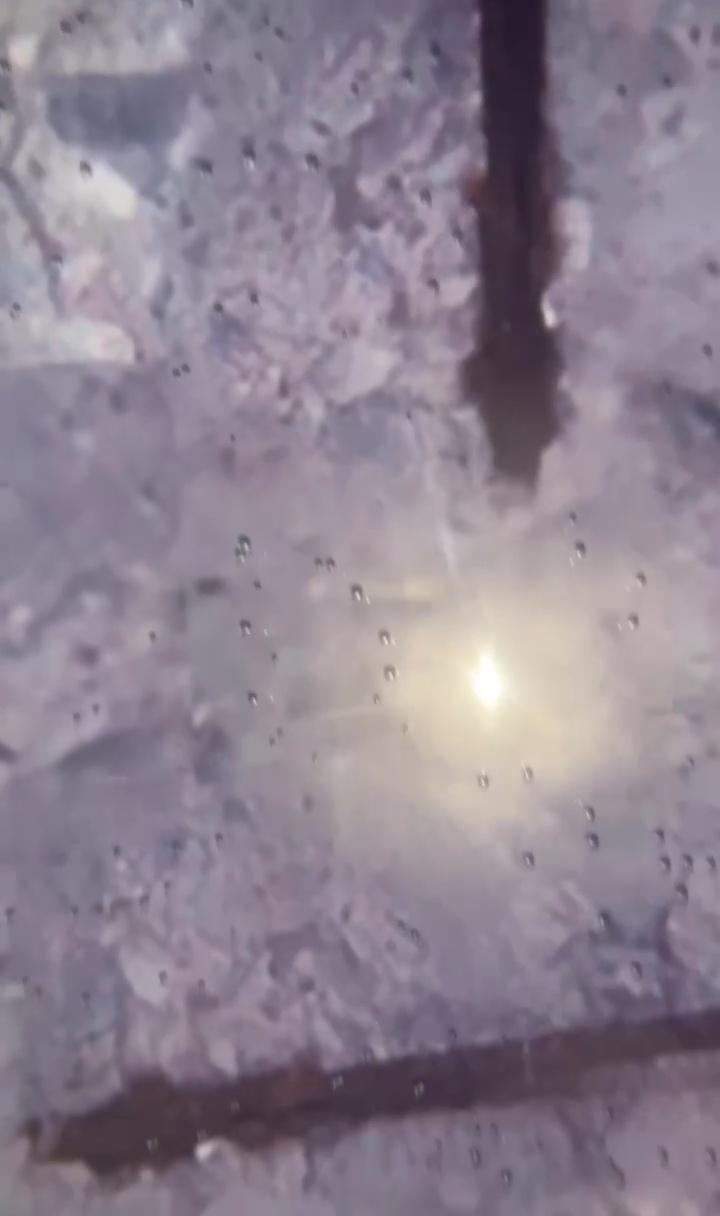Exposed reinforcement: (16, 1003, 720, 1178), (462, 1, 565, 497)
